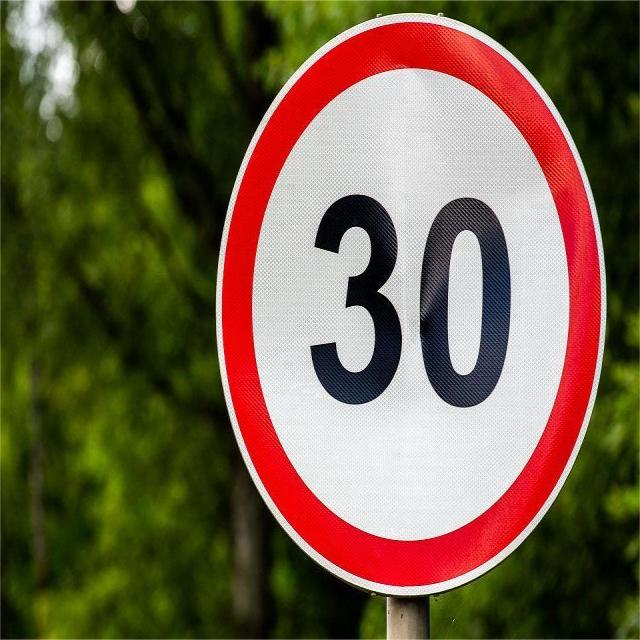speed limit 30: (215, 14, 605, 599)
